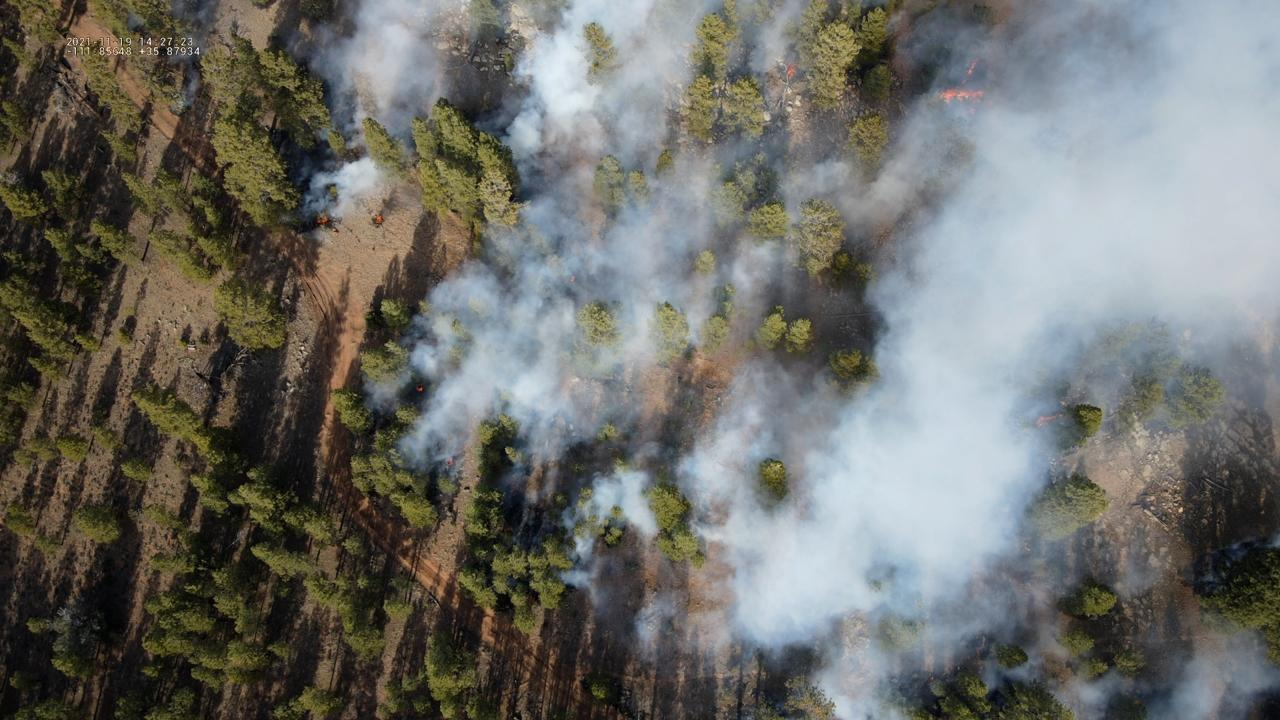fire: (939, 88, 986, 104), (1034, 414, 1058, 430), (785, 63, 797, 82), (965, 61, 977, 77), (314, 215, 328, 225), (373, 215, 384, 225), (446, 456, 454, 466), (416, 385, 424, 392)
smoke: (280, 0, 1280, 720), (166, 0, 219, 114), (126, 12, 143, 34)
